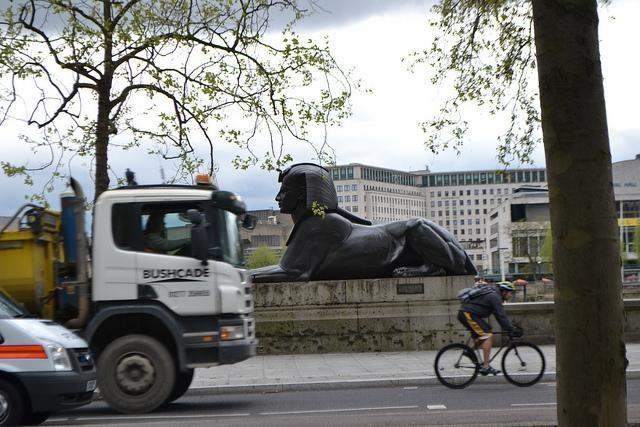bicycle: (433, 325, 546, 390)
car: (0, 289, 97, 426)
truck: (1, 171, 260, 415)
